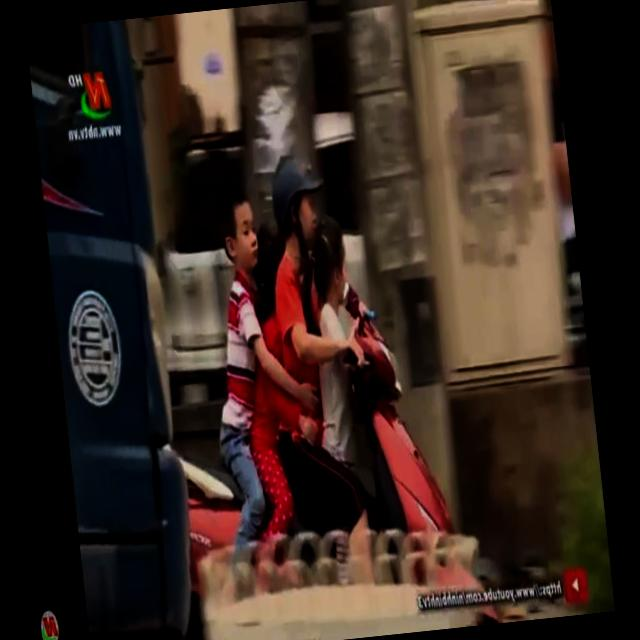motorcycle: (136, 263, 460, 612)
person: (180, 183, 304, 540), (248, 136, 358, 458), (284, 200, 380, 474)
rider_region: (122, 138, 456, 582)
